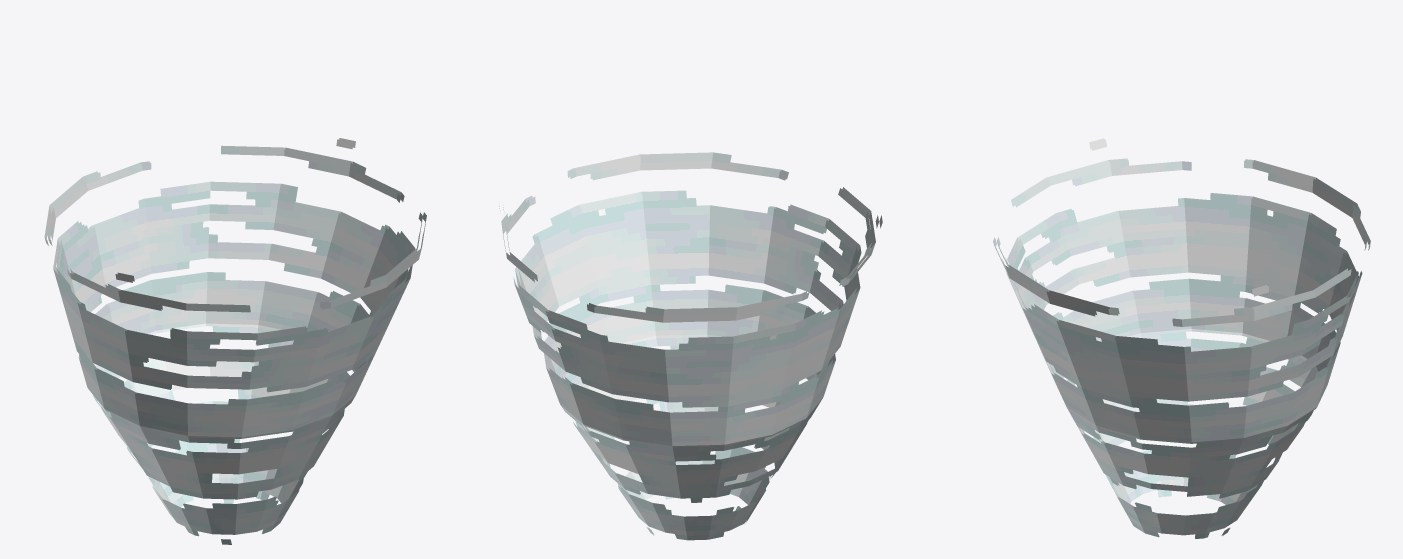
Rendered from water_tatumaki.glb.
The picture shows the model from 3 angles, left to right: view 1: azimuth 30°, elevation 25°; view 2: azimuth 150°, elevation 25°; view 3: azimuth 270°, elevation 25°; orthographic projection. The views are drawn at different scales.
Parts seen in each view (by area): view 1: water_tatumaki; view 2: water_tatumaki; view 3: water_tatumaki.
Boxes of the visible parts, x1,y1,x2,y2 form: water_tatumaki: (44, 138, 426, 544); water_tatumaki: (499, 152, 882, 540); water_tatumaki: (993, 138, 1370, 538).
Size of the model in its own units: 4.68 by 4.88 by 4.68.
Materials: 1 (1 with a texture image).
